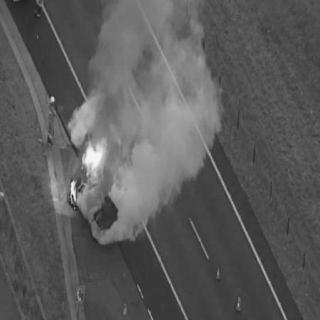other: (46, 88, 56, 105)
